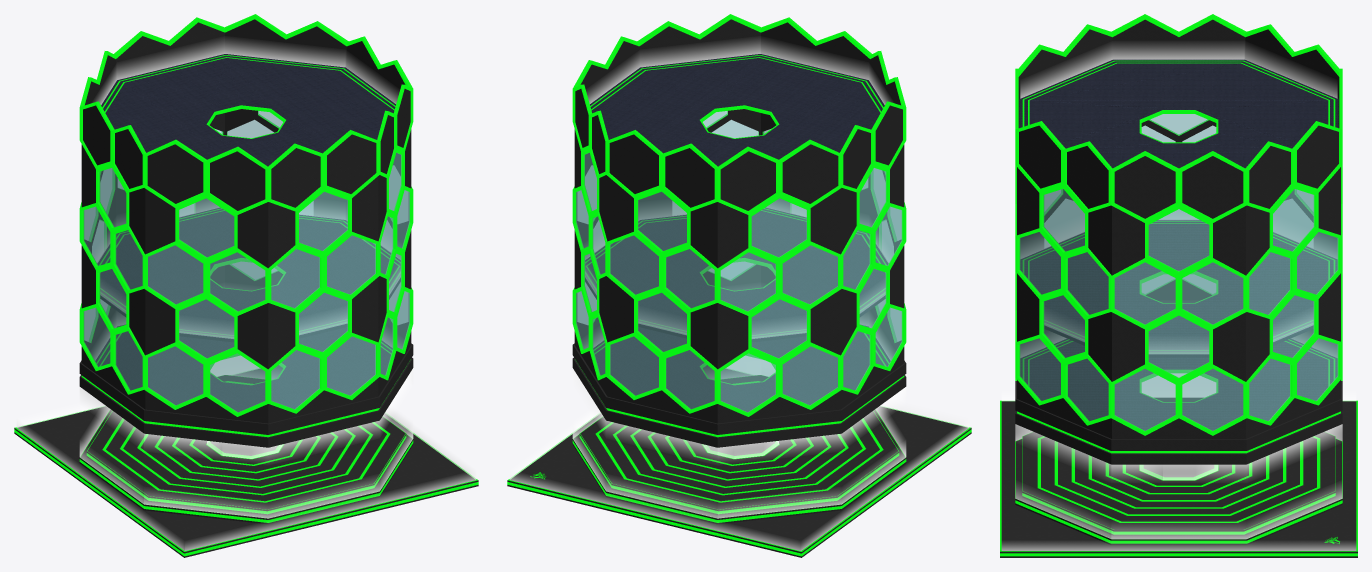
File: Dhingia Builds 07 Size 1x1 Green.glb
3 renders of one model, left to right at view 1: azimuth 30°, elevation 25°; view 2: azimuth 150°, elevation 25°; view 3: azimuth 270°, elevation 25°, orthographic. The views are drawn at different scales.
Parts seen in each view (by area): view 1: Mesh_3, Mesh_2, Mesh_0, Mesh_9, Mesh_8, Mesh_7, Mesh_1, Mesh_15, Lift; view 2: Mesh_3, Mesh_2, Mesh_0, Mesh_9, Mesh_8, Mesh_7, Mesh_1, Mesh_15, Lift; view 3: Mesh_3, Mesh_2, Mesh_0, Mesh_8, Mesh_9, Mesh_7, Mesh_1, Mesh_15, Lift.
Boxes of the visible parts, left/top/right/bottom form: Mesh_3: left=79, top=14, right=413, bottom=447; Mesh_2: left=83, top=111, right=409, bottom=412; Mesh_0: left=14, top=365, right=478, bottom=557; Mesh_9: left=16, top=40, right=476, bottom=550; Mesh_8: left=101, top=53, right=395, bottom=166; Mesh_7: left=97, top=207, right=400, bottom=341; Mesh_1: left=95, top=324, right=392, bottom=411; Mesh_15: left=102, top=381, right=390, bottom=502; Lift: left=210, top=442, right=279, bottom=457; Mesh_3: left=572, top=14, right=906, bottom=447; Mesh_2: left=576, top=111, right=902, bottom=412; Mesh_0: left=507, top=365, right=971, bottom=557; Mesh_9: left=509, top=40, right=969, bottom=550; Mesh_8: left=590, top=53, right=884, bottom=166; Mesh_7: left=585, top=207, right=888, bottom=341; Mesh_1: left=593, top=324, right=890, bottom=411; Mesh_15: left=595, top=381, right=883, bottom=502; Lift: left=706, top=442, right=775, bottom=457; Mesh_3: left=1015, top=14, right=1342, bottom=464; Mesh_2: left=1019, top=114, right=1338, bottom=430; Mesh_0: left=1000, top=398, right=1357, bottom=557; Mesh_8: left=1019, top=59, right=1338, bottom=168; Mesh_9: left=1001, top=45, right=1356, bottom=550; Mesh_7: left=1020, top=220, right=1337, bottom=357; Mesh_1: left=1020, top=338, right=1337, bottom=430; Mesh_15: left=1037, top=436, right=1320, bottom=522; Lift: left=1143, top=465, right=1214, bottom=478.
Size of what is drawn, in the model's own units: 16 by 19.7 by 16.
Materials: 5 (3 with a texture image).
